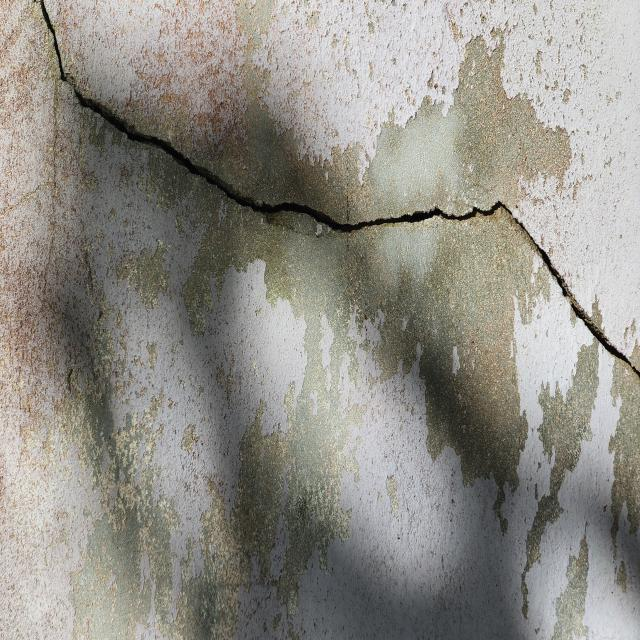SurfaceCrack: (1, 0, 638, 275)
